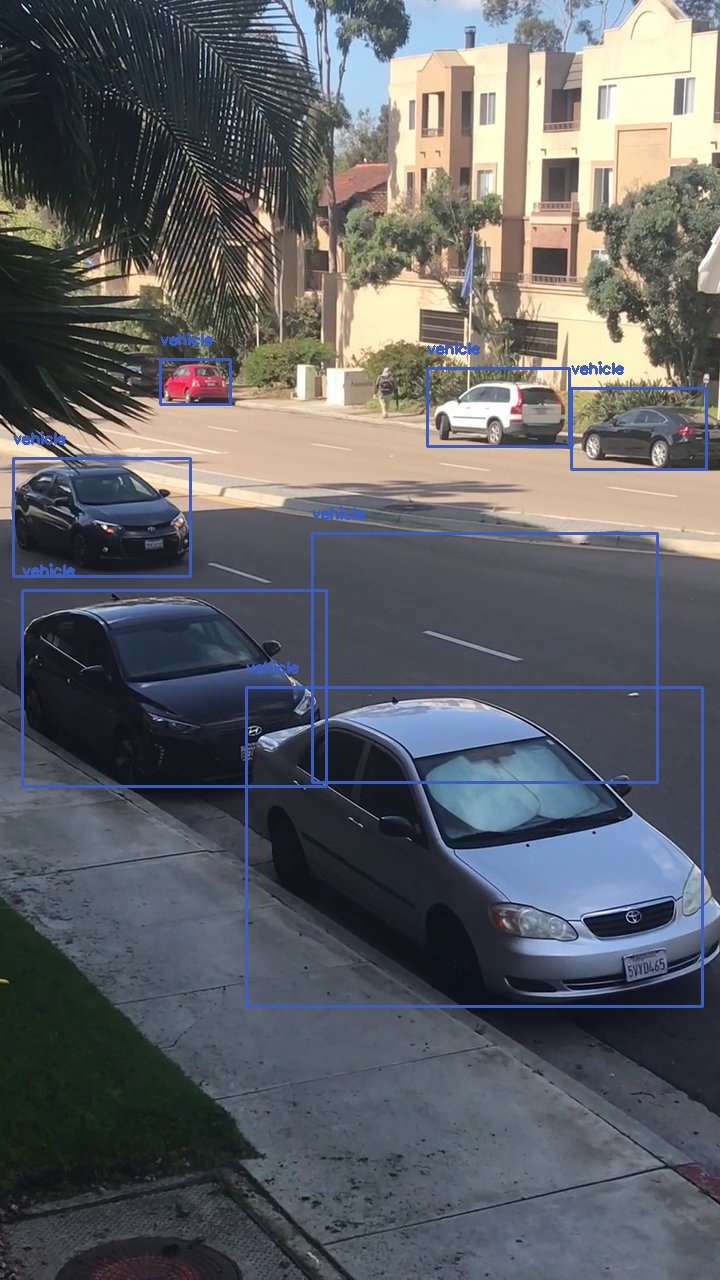vehicle: (246, 687, 702, 1006), (312, 533, 657, 782), (22, 590, 326, 786), (13, 458, 190, 576), (427, 368, 569, 446), (571, 388, 706, 469), (160, 359, 230, 404)
